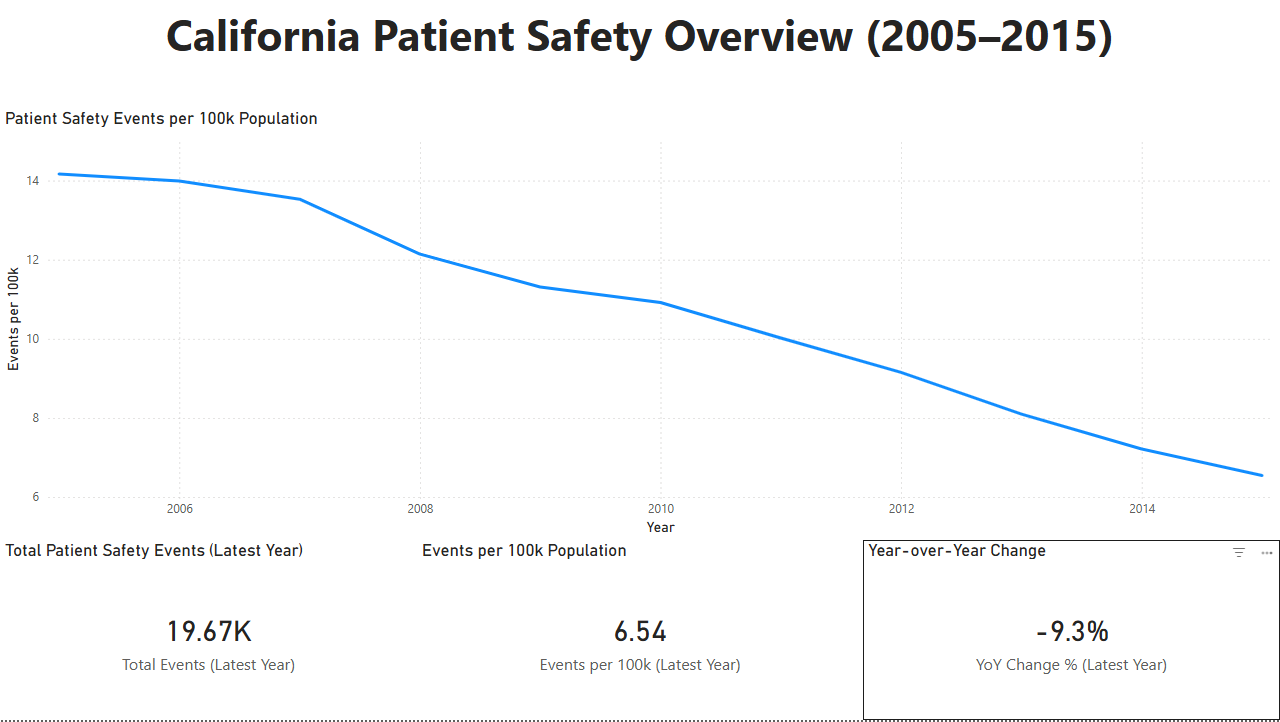

This screenshot's page, from the dashboard's own definition file:
{"tool":"powerbi","page":{"name":"Executive Overview","canvas":[1280,720],"ordinal":0},"visuals":[{"type":"lineChart","title":"Patient Safety Events per 100k Population","fields":{"Category":["v_year_kpis.year"],"Y":["Sum(v_year_kpis.events_per_100k)"]},"box":[0,108.1,1280,432.4],"z":0},{"type":"card","title":"Events per 100k Population","fields":{"Values":["v_year_kpis.Events per 100k (Latest Year)"]},"box":[416.7,540.1,446.6,179.9],"z":1000},{"type":"card","title":"Year-over-Year Change","fields":{"Values":["v_year_kpis.YoY Change % (Latest Year)"]},"box":[863.3,540.1,416.7,179.9],"z":2000},{"type":"card","title":"Total Patient Safety Events (Latest Year)","fields":{"Values":["v_year_kpis.Total Events (Latest Year)"]},"box":[0,540.1,416.7,179.9],"z":3000},{"type":"textbox","box":[0,0,1280,108.1],"z":3001}]}

Visuals, with their boxes in screenshot pixels (x1, y1, x2, y2), scaled from the page's 1280x720 canvas onto the 1280x722 screenshot:
"Patient Safety Events per 100k Population" lineChart: (0,108,1279,542)
"Events per 100k Population" card: (417,542,863,721)
"Year-over-Year Change" card: (863,542,1279,721)
"Total Patient Safety Events (Latest Year)" card: (0,542,417,721)
textbox: (0,0,1279,108)
